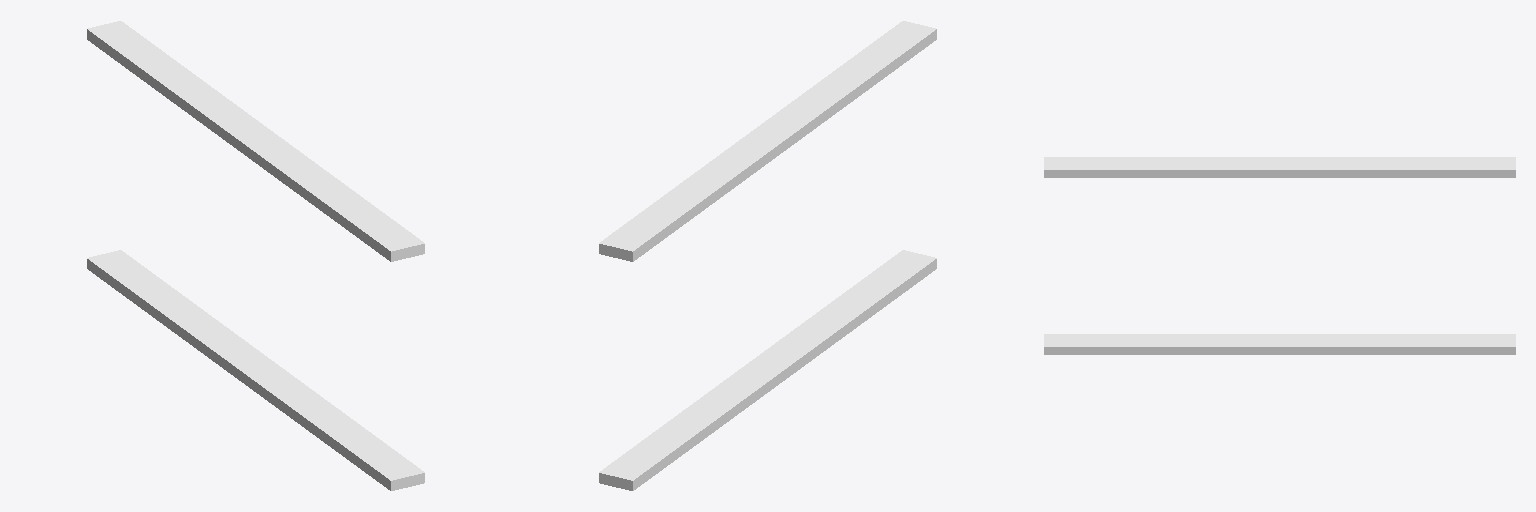
robot.urdf — grasp:
<robot name="grasp">
  <link name="base_link">
    <visual>
      <origin xyz="0 0 0" rpy="0 0 0" />
      <geometry>
        <mesh filename="package://hpp-rbprm-corba/meshes/grasp.stl"/>
      </geometry>
      <material name="white">
        <color rgba="1 1 1 1"/>
      </material>
    </visual>
    <collision>
      <origin xyz="0 0 0" rpy="0 0 0" />
      <geometry>
        <mesh filename="package://hpp-rbprm-corba/meshes/grasp.stl"/>
      </geometry>
    </collision>
  </link>
</robot>

--- Render facts (derived) ---
3 views of the same robot in one strip: view 1: azimuth 30°, elevation 25°; view 2: azimuth 150°, elevation 25°; view 3: azimuth 270°, elevation 25° (orthographic).
Model grasp with 1 links and 0 joints (none), rooted at base_link, posed every joint at zero.
Visible links, largest first — view 1: base_link; view 2: base_link; view 3: base_link.
Link boxes in pixels (x1,y1,x2,y2): base_link: (87,21,424,490); base_link: (599,21,936,490); base_link: (1044,157,1515,354).
Bounding box of the posed robot: 0.1286 × 1.98 × 0.8598 m (x, y, z).
Meshes: 1 distinct files referenced, 1 mesh visuals loaded (1 binary STL).